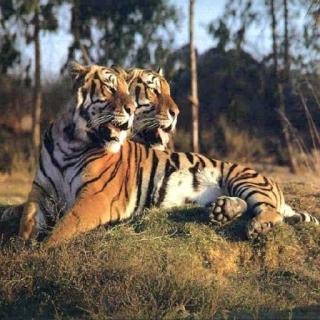Tiger: (16, 58, 303, 245), (120, 62, 185, 149)
